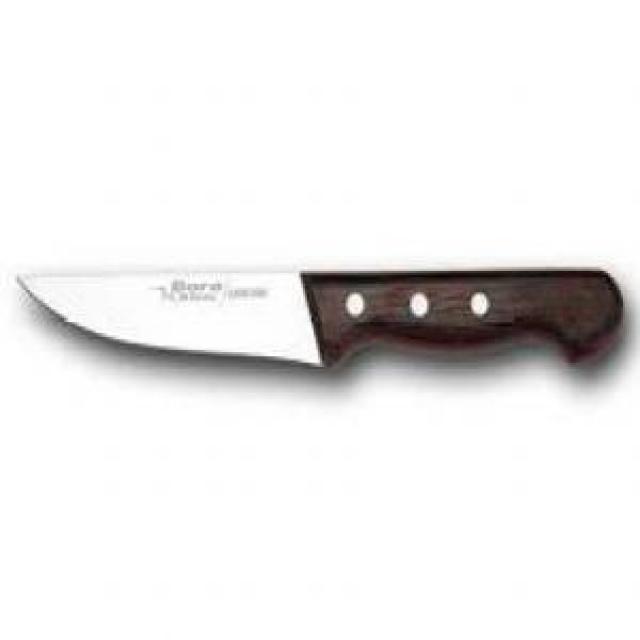knife: (13, 254, 627, 376)
